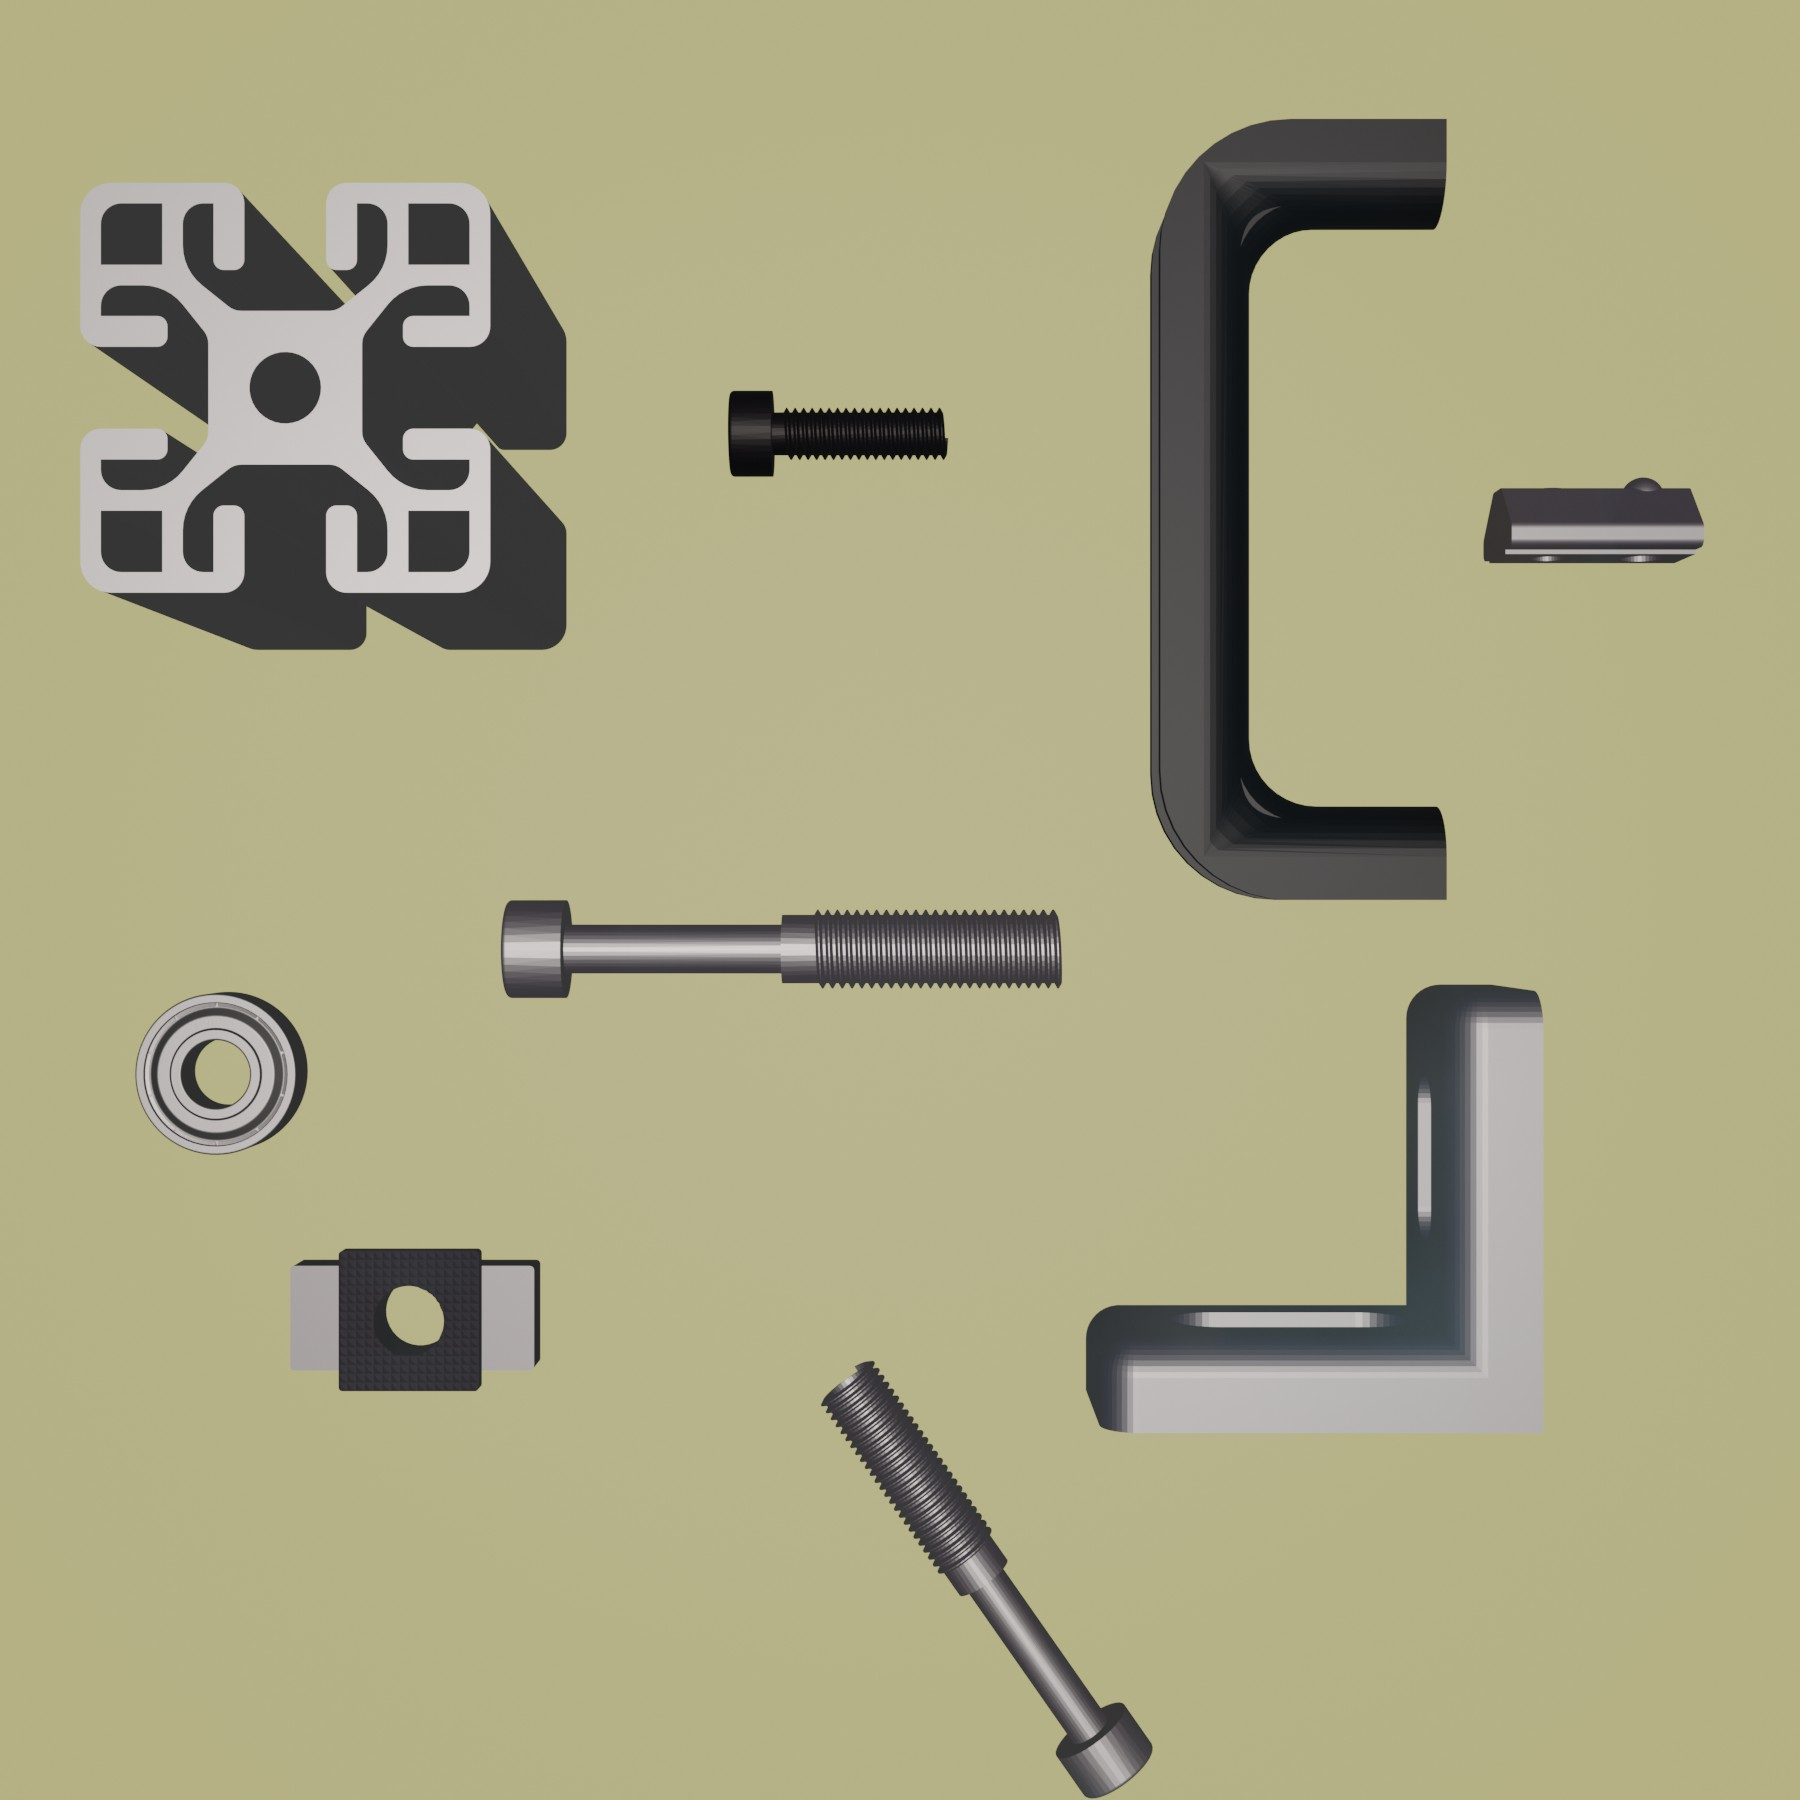Aluminium Extension: (73, 176, 570, 654)
Ball Bearing: (132, 987, 308, 1159)
Multiwinkel: (1081, 981, 1549, 1442)
Pull Handle: (1142, 114, 1451, 905)
Shoulder Socket Head Cap Screw: (819, 1358, 1155, 1800), (496, 892, 1065, 1001)
Socket Head Cap Screw: (724, 386, 949, 480)
T Nut Square: (284, 1241, 546, 1396)
T Spring Nut: (1479, 475, 1708, 569)
